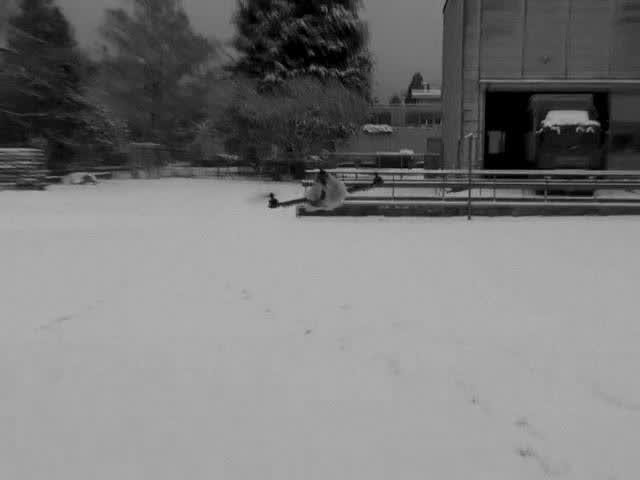drone: (243, 147, 395, 231)
